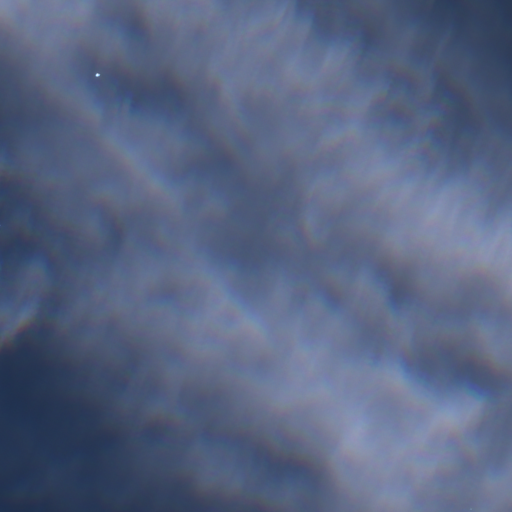Iceberg: (95, 73, 100, 76)
